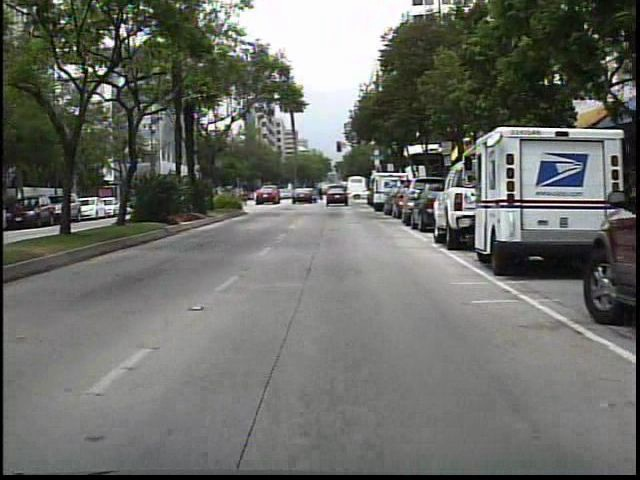person: (303, 182, 319, 206), (317, 184, 326, 203)
